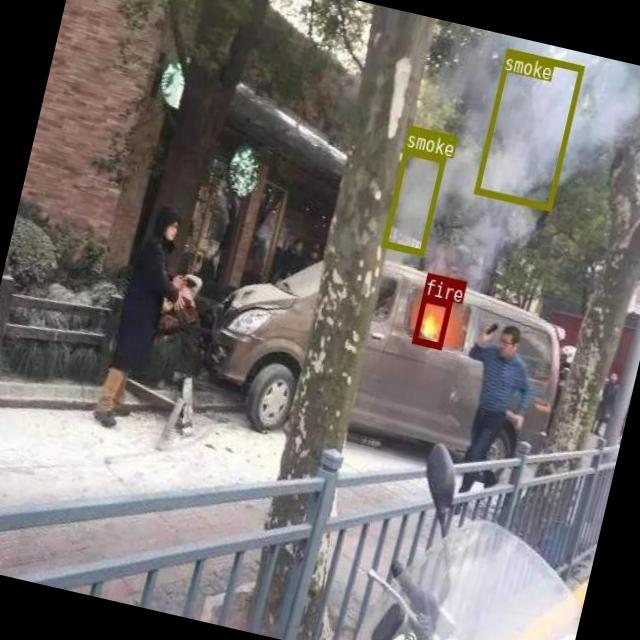fire: (410, 294, 450, 348)
smoke: (472, 47, 582, 210), (380, 146, 446, 255)
